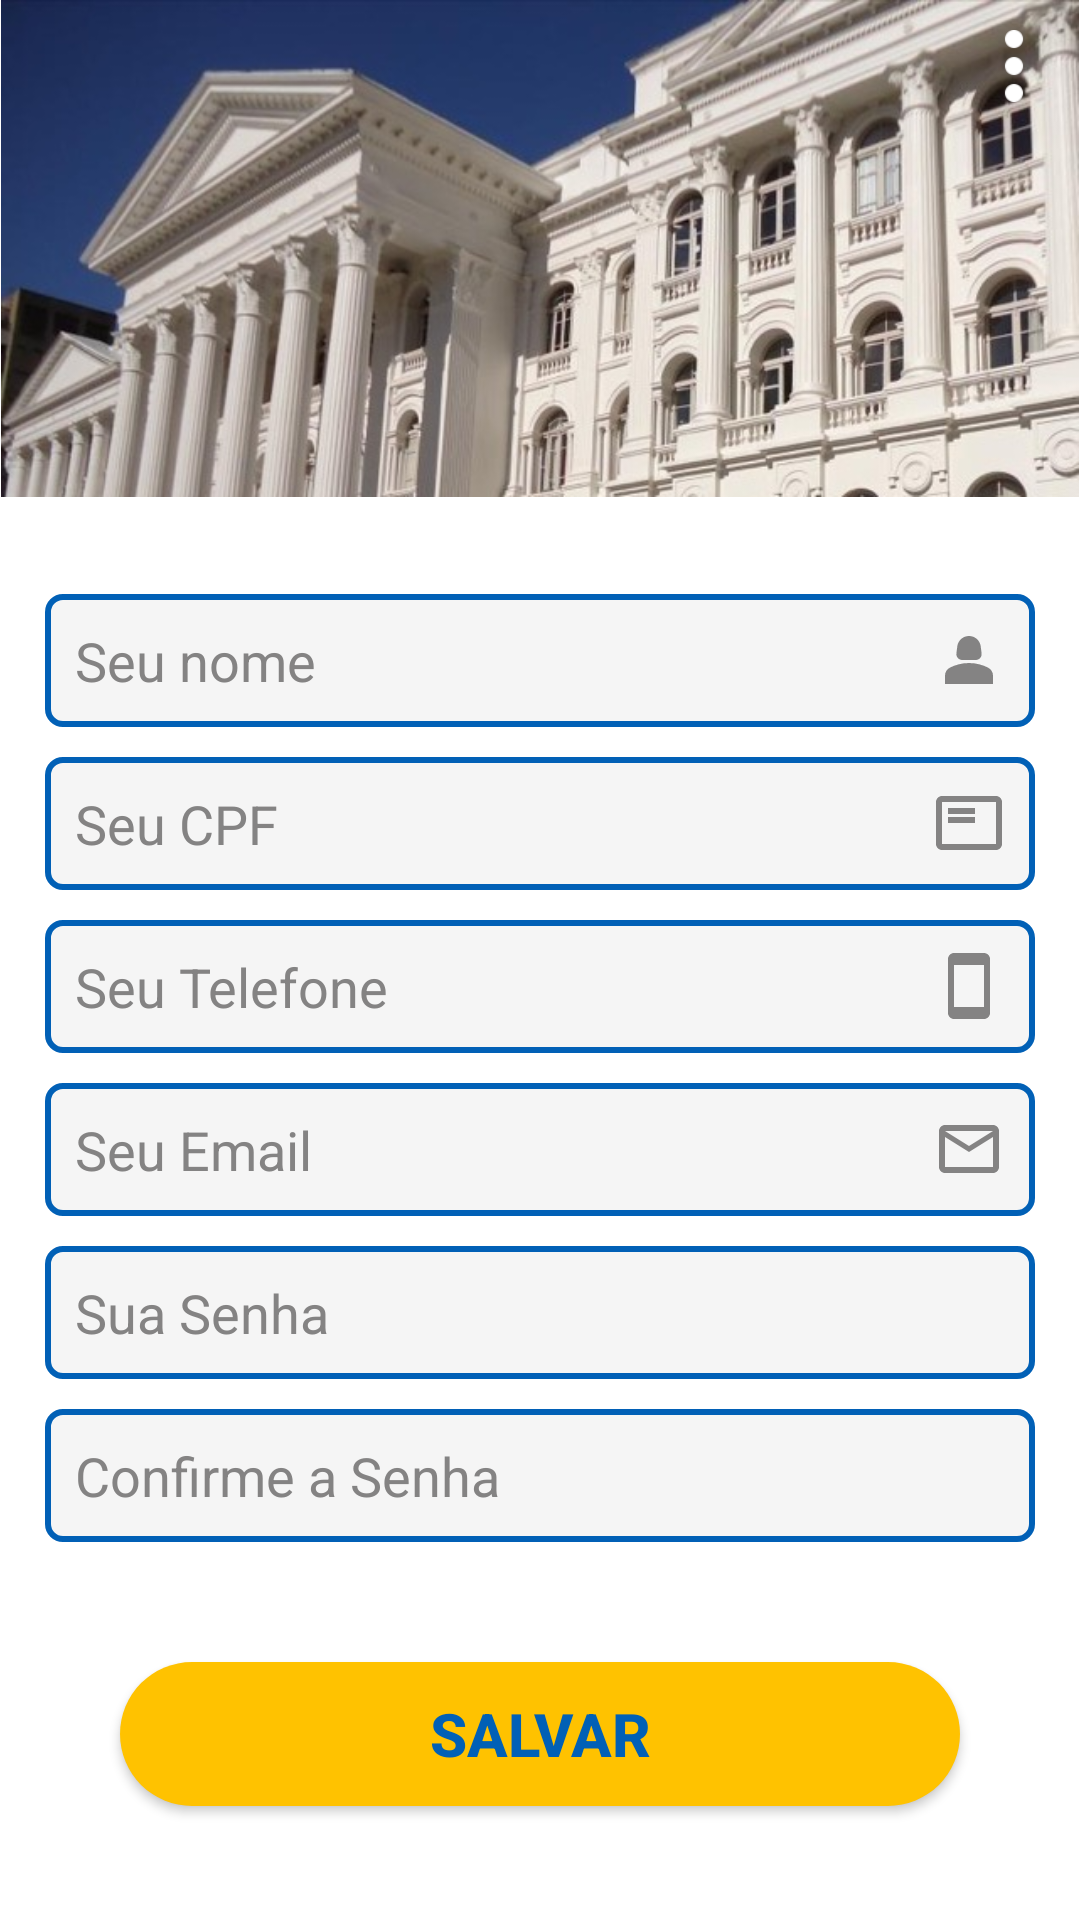

Icons on this 1080×1920 Android screen, each with the point to tap as point (x, y):
menuopcoesbranco: point (1014, 66)
